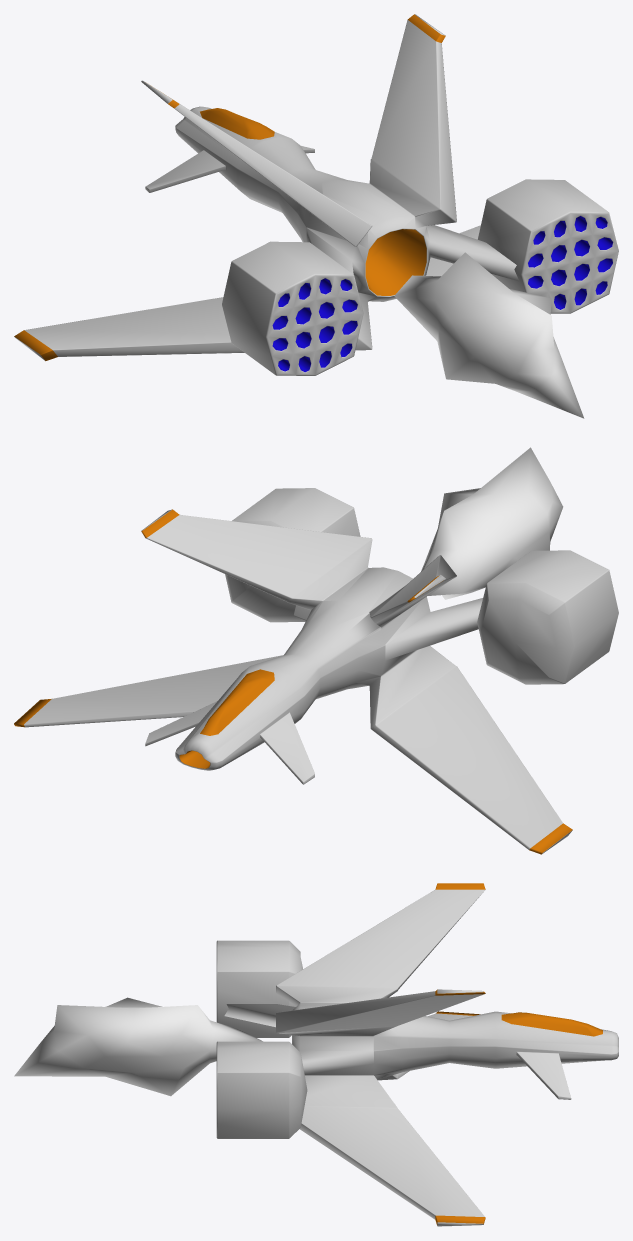
The model's file is RocketPlane.fbx.
The picture shows the model from 3 angles, top to bottom: view 1: azimuth 30°, elevation 25°; view 2: azimuth 150°, elevation 25°; view 3: azimuth 270°, elevation 25°; orthographic projection. The views are drawn at different scales.
Parts seen in each view (by area): view 1: Cube.001, Cube, Icosphere; view 2: Cube.001, Cube, Icosphere; view 3: Cube.001, Cube, Icosphere.
Boxes of the visible parts, bbox=[...] form: Cube.001: bbox=[14, 14, 518, 361]; Cube: bbox=[222, 179, 618, 375]; Icosphere: bbox=[394, 252, 584, 418]; Cube.001: bbox=[14, 509, 572, 854]; Cube: bbox=[225, 488, 618, 684]; Icosphere: bbox=[421, 447, 563, 599]; Cube.001: bbox=[224, 883, 618, 1226]; Cube: bbox=[216, 940, 307, 1138]; Icosphere: bbox=[14, 997, 262, 1096].
Bounding box in the file's own units: 1358 × 562 × 1648.
